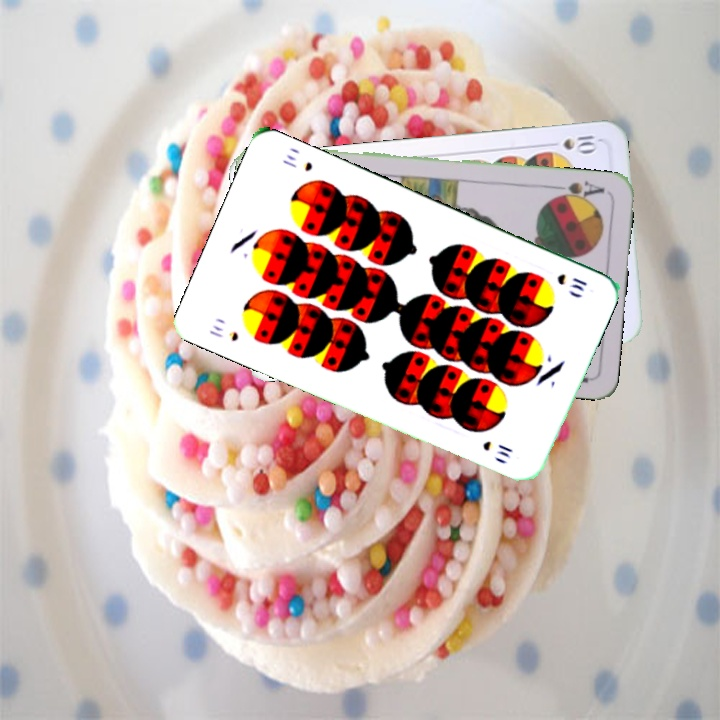S10: (542, 131, 599, 155), (552, 269, 590, 294), (205, 321, 241, 344)
SA: (549, 176, 607, 204)
